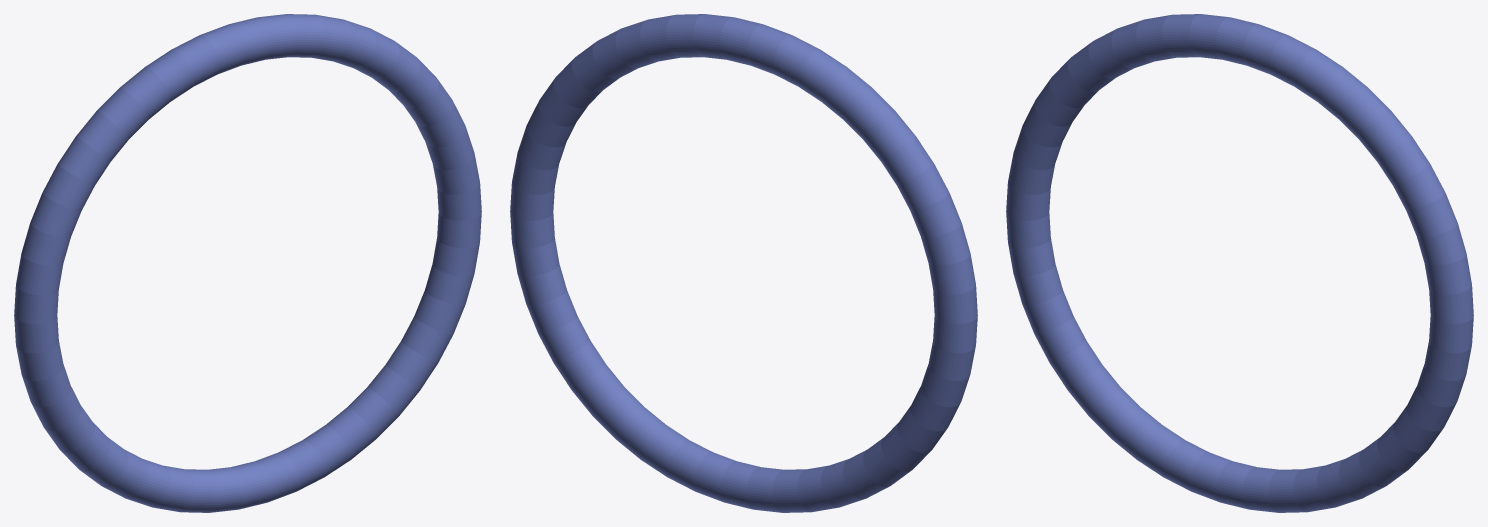
The picture shows the model from 3 angles, left to right: view 1: azimuth 30°, elevation 25°; view 2: azimuth 150°, elevation 25°; view 3: azimuth 330°, elevation 25°; orthographic projection.
Visible parts, largest first — view 1: world; view 2: world; view 3: world.
Part boxes in pixels (left/top/right/bottom): world: left=14, top=14, right=481, bottom=512; world: left=510, top=14, right=977, bottom=512; world: left=1006, top=14, right=1473, bottom=512.
Bounding box in the file's own units: 24.67 × 24.62 × 2.
